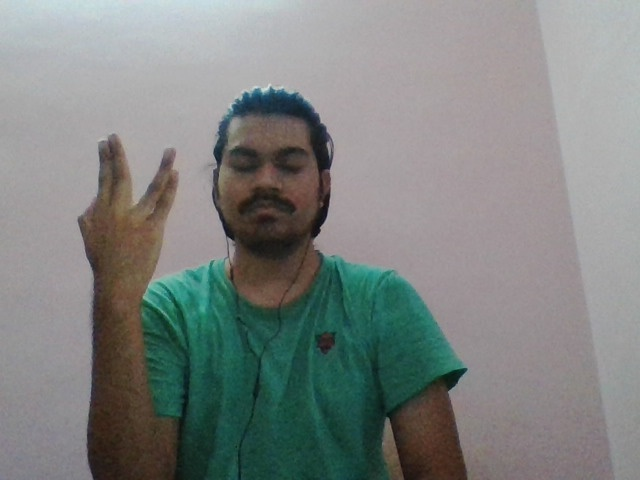LiveLong: (74, 131, 183, 296)
